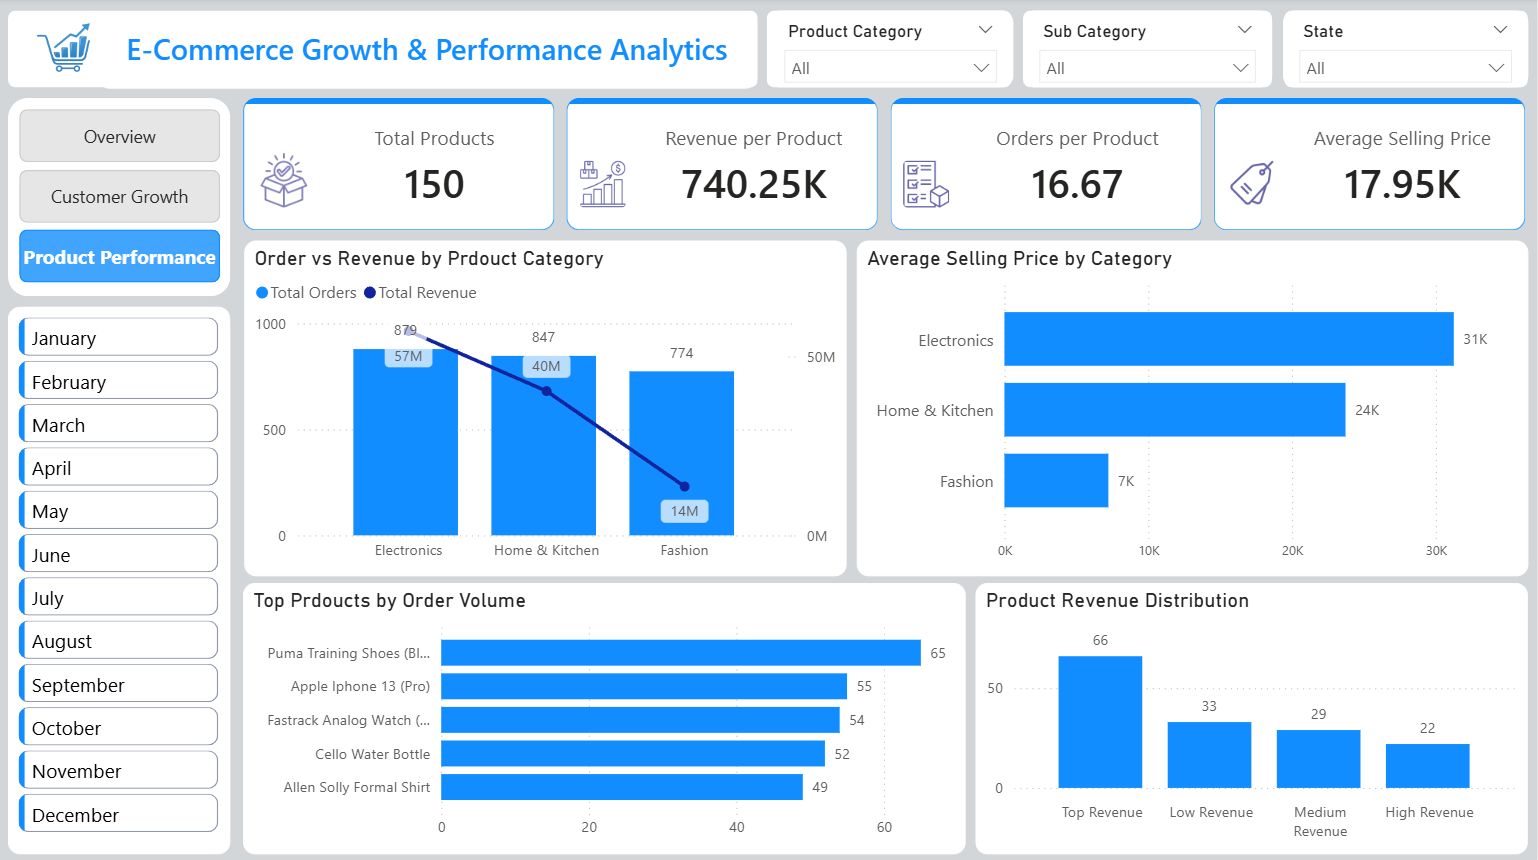

The page's visual inventory and layout, read from the dashboard file:
{"tool":"powerbi","page":{"name":"Product Performance","canvas":[1280,720],"ordinal":2},"visuals":[{"type":"shape","box":[8.3,10.7,623.4,64],"z":0},{"type":"shape","box":[639.5,10.5,203.5,64],"z":1000},{"type":"shape","box":[1069,10.7,202.7,64],"z":2000},{"type":"shape","box":[852.3,10.5,207,64],"z":3000},{"type":"shape","box":[8.3,83,184.9,164.7],"z":4000},{"type":"shape","box":[8.3,257.2,184.9,455.1],"z":5000},{"type":"cardVisual","fields":{"Data":["Fact_Orders.Total Products","Fact_Orders.Revenue per Product","Fact_Orders.Orders per Product","Fact_Orders.Average Selling Price"]},"box":[203.9,83,1067.9,110.2],"z":6000},{"type":"slicer","fields":{"Values":["Dim_Products.category"]},"box":[640,10.7,203.9,64],"z":7000},{"type":"slicer","fields":{"Values":["Dim_Products.sub_category"]},"box":[852.1,10.7,207.4,64],"z":8000},{"type":"slicer","fields":{"Values":["Dim_Customers.state"]},"box":[1067.9,10.7,203.9,64],"z":9000},{"type":"textbox","box":[83.5,11.1,548.2,64],"z":10000},{"type":"image","box":[8.3,4.7,92.4,74.7],"z":11000},{"type":"barChart","title":"Average Selling Price by Category","fields":{"Category":["Dim_Products.category"],"Y":["Fact_Orders.Average Selling Price"]},"box":[714,201.2,558.1,279.1],"z":12000},{"type":"lineClusteredColumnComboChart","title":"Order vs Revenue by Prdouct Category","fields":{"Category":["Dim_Products.category"],"Y":["Fact_Orders.Total Orders"],"Y2":["Fact_Orders.Total Revenue"]},"box":[204.7,201.2,501.2,279.1],"z":13000},{"type":"clusteredBarChart","title":"Top Prdoucts by Order Volume","fields":{"Y":["Fact_Orders.Total Orders"],"Category":["Dim_Products.product_name"]},"box":[203.5,486,601.2,225.6],"z":14000},{"type":"clusteredColumnChart","title":"Product Revenue Distribution","fields":{"Category":["Dim_Products.Product Revenue Bucket"],"Y":["Fact_Orders.Total Products"]},"box":[812.8,486,459.3,225.6],"z":15000},{"type":"pageNavigator","box":[17.8,92.4,167.1,145.8],"z":16000},{"type":"advancedSlicerVisual","fields":{"Values":["Custom_Calendar.Date.Variation.Date Hierarchy.Month"]},"box":[8.3,257.2,184.9,455.1],"z":17000}]}

Visuals, with their boxes in screenshot pixels (x1, y1, x2, y2), scaled from the page's 1280x720 canvas onto the 1538x860 screenshot:
shape: bbox(10, 13, 759, 89)
shape: bbox(768, 13, 1013, 89)
shape: bbox(1284, 13, 1528, 89)
shape: bbox(1024, 13, 1273, 89)
shape: bbox(10, 99, 232, 296)
shape: bbox(10, 307, 232, 851)
cardVisual - Fact_Orders.Total Products x Fact_Orders.Revenue per Product: bbox(245, 99, 1528, 231)
slicer - Dim_Products.category: bbox(769, 13, 1014, 89)
slicer - Dim_Products.sub_category: bbox(1024, 13, 1273, 89)
slicer - Dim_Customers.state: bbox(1283, 13, 1528, 89)
textbox: bbox(100, 13, 759, 90)
image: bbox(10, 6, 121, 95)
"Average Selling Price by Category" barChart: bbox(858, 240, 1529, 574)
"Order vs Revenue by Prdouct Category" lineClusteredColumnComboChart: bbox(246, 240, 848, 574)
"Top Prdoucts by Order Volume" clusteredBarChart: bbox(245, 580, 967, 850)
"Product Revenue Distribution" clusteredColumnChart: bbox(977, 580, 1529, 850)
pageNavigator: bbox(21, 110, 222, 285)
advancedSlicerVisual - Custom_Calendar.Date.Variation.Date Hierarchy.Month: bbox(10, 307, 232, 851)
